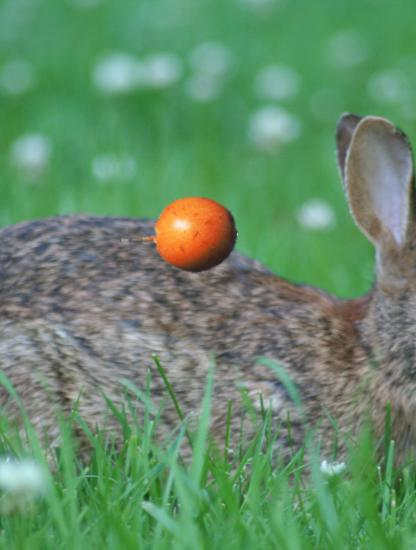Granadilla: (120, 177, 239, 296)
